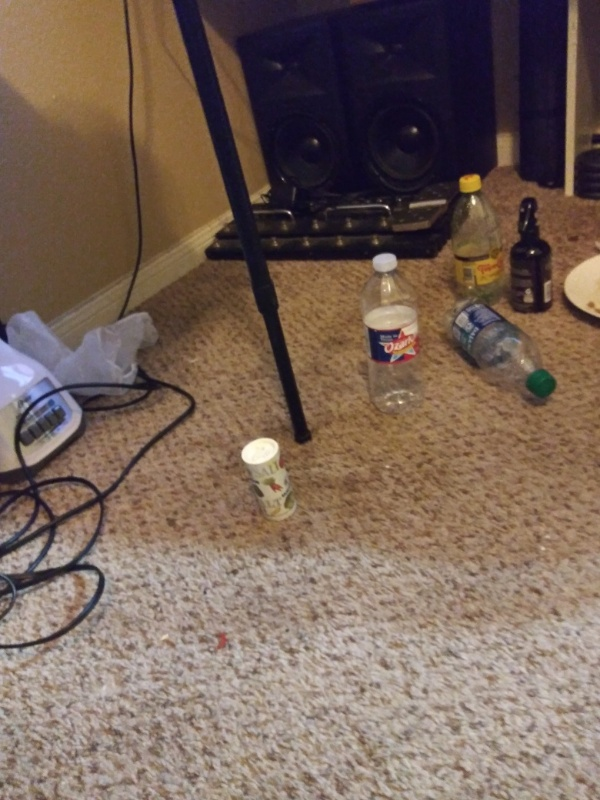bottle: (351, 247, 430, 418), (444, 295, 558, 403), (446, 173, 508, 301)
